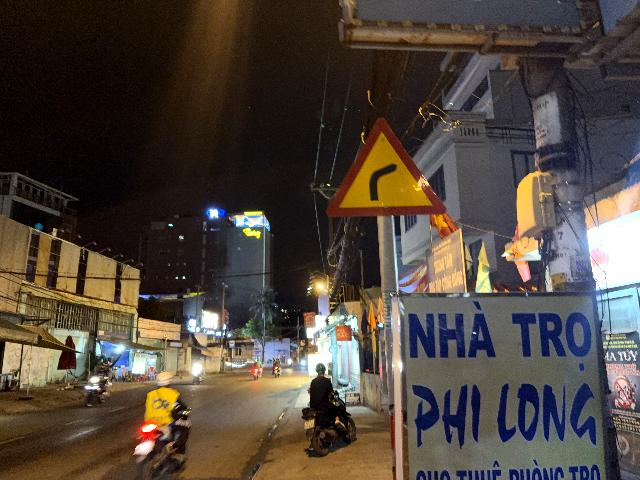cho-ngoat-nguy-hiem-ben-phai: (326, 116, 446, 216)
